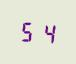five: (19, 18, 36, 43)
four: (37, 19, 54, 45)
